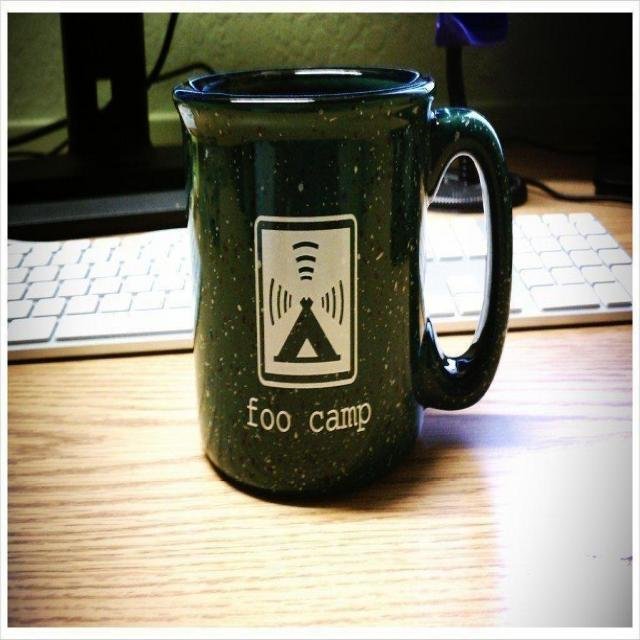cup-handle: (171, 64, 513, 502)
